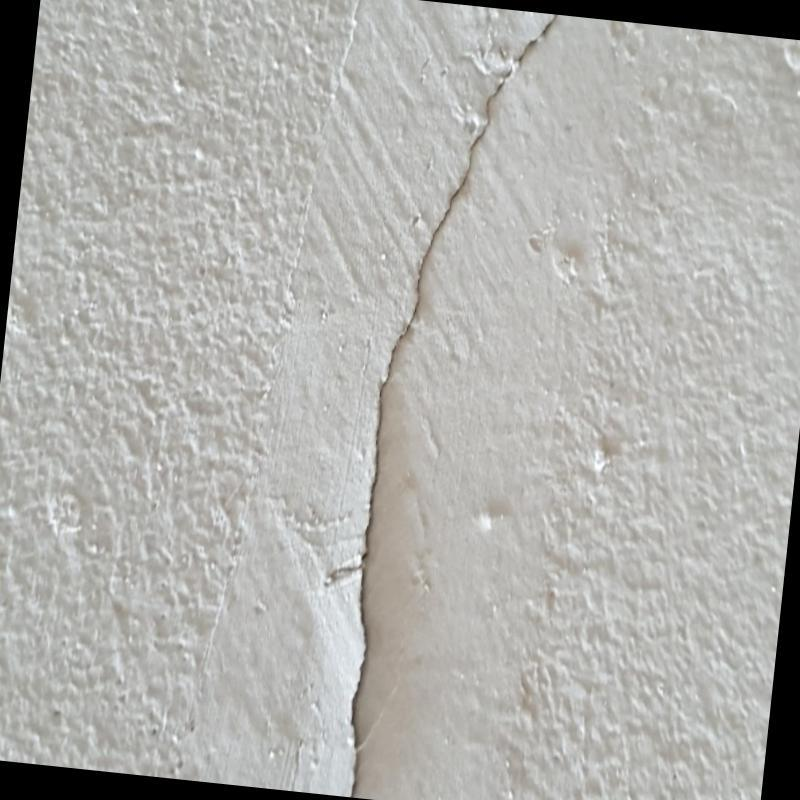crack: (350, 15, 556, 795)
